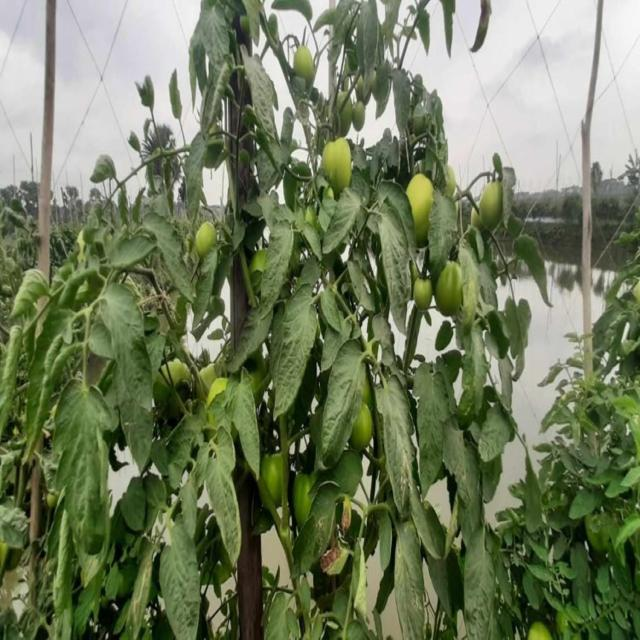tomato: (401, 167, 439, 232), (433, 259, 469, 320), (475, 172, 508, 234), (261, 453, 288, 506), (323, 144, 353, 191), (295, 470, 320, 526), (291, 40, 319, 86), (350, 407, 377, 452), (196, 220, 223, 259), (197, 361, 226, 389), (168, 357, 191, 387), (337, 86, 349, 134), (421, 273, 436, 306), (350, 101, 364, 133), (527, 623, 552, 640), (212, 378, 231, 400)
